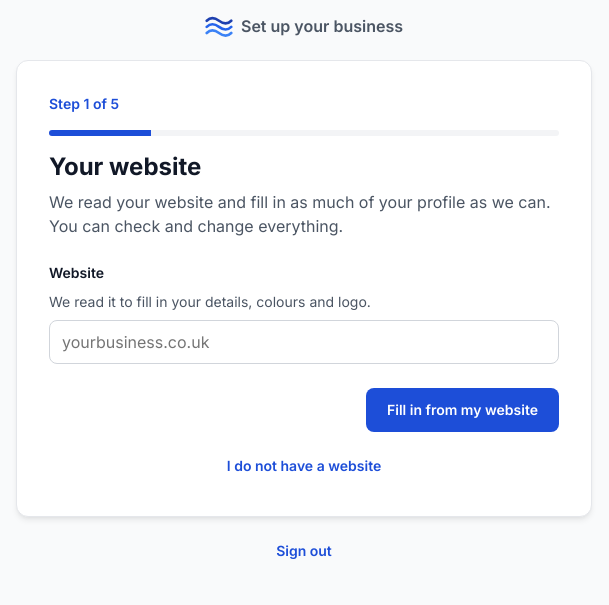
onboarding › asks for a website, or the choice to go without one
This screenshot has width=609, height=605.
Expected: the text "Step 1 of 5" is shown, [49,95,119,112]
Click the button with test id "next-step".
click(462, 410)  # box [366,388,559,432]
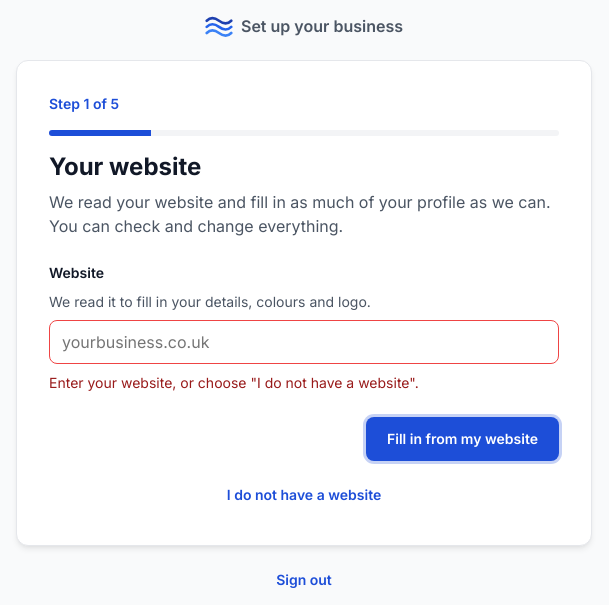
Now the text "Enter your website, or choose \"I do not have a website\"." is shown, box [49,374,419,391]
Type "not a website" into the field with test id "website".
click(304, 342); type("not a website")  # box [49,320,559,364]
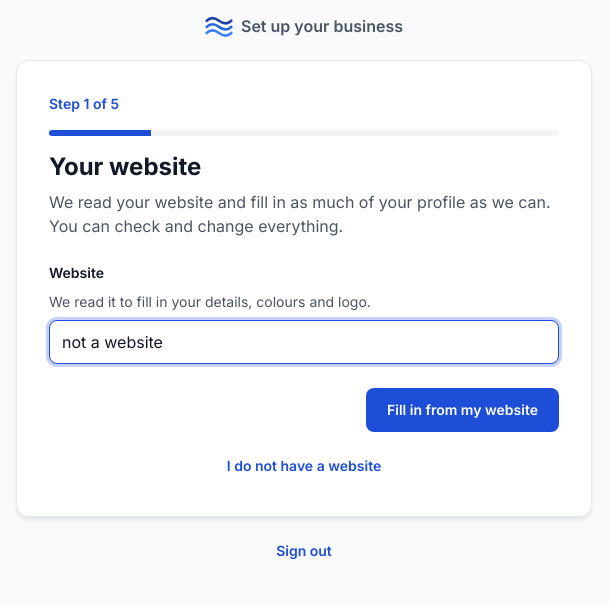
Click the button with test id "next-step".
click(462, 410)  # box [366,388,559,432]
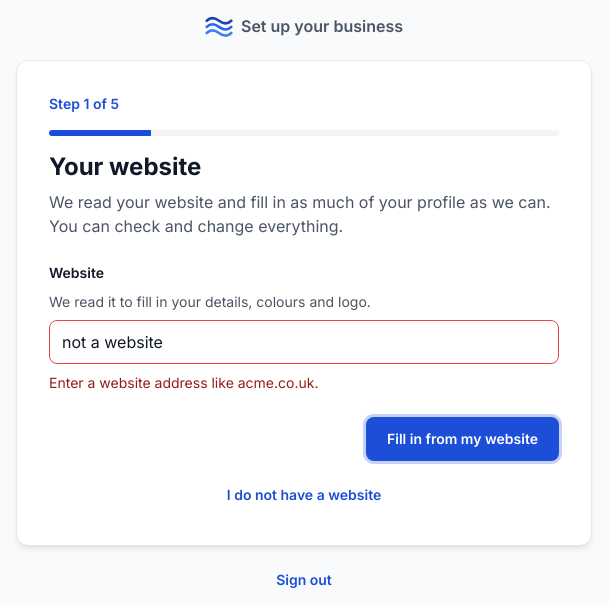
Now the text "Enter a website address like acme.co.uk." is shown, box [49,374,318,391]
